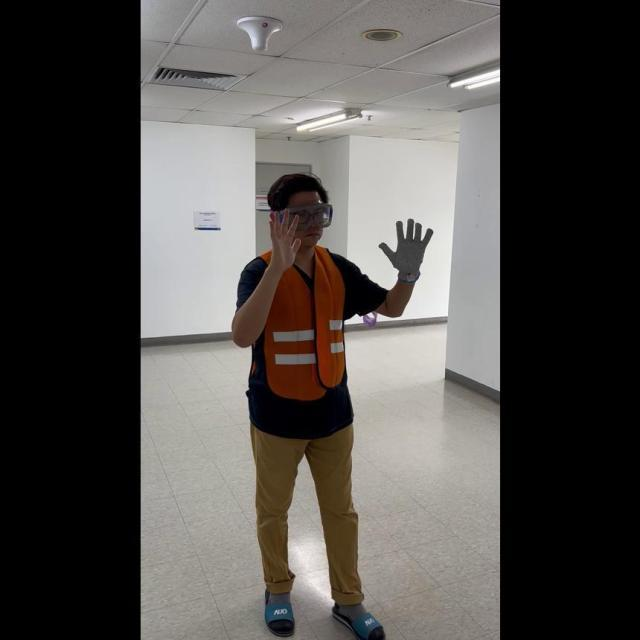bare_hand: (261, 207, 303, 269)
gloved_hand: (377, 217, 433, 281)
